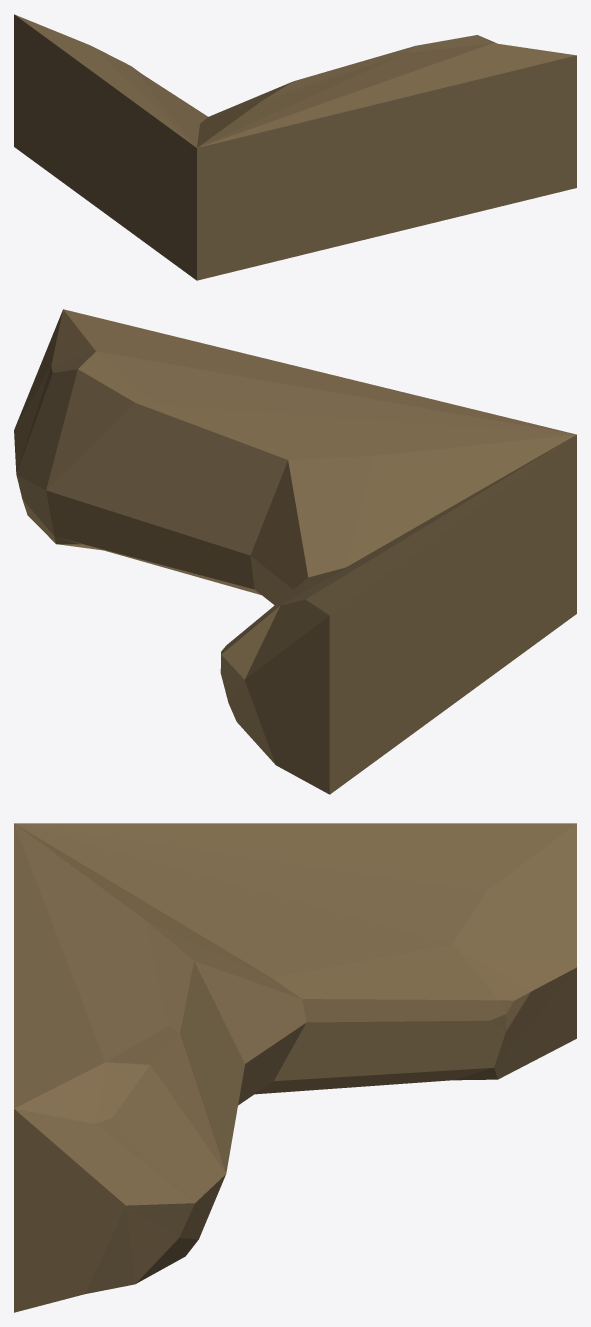
The model's file is LightRockEdgeSmallInternalCurve2.FBX.
3 renders of one model, top to bottom at view 1: azimuth 30°, elevation 25°; view 2: azimuth 150°, elevation 25°; view 3: azimuth 270°, elevation 25°, orthographic. The views are drawn at different scales.
Parts seen in each view (by area): view 1: LightNaturalRockEdgeSmallInternalCurve2; view 2: LightNaturalRockEdgeSmallInternalCurve2; view 3: LightNaturalRockEdgeSmallInternalCurve2.
Boxes of the visible parts, x1,y1,x2,y2 form: LightNaturalRockEdgeSmallInternalCurve2: [14, 14, 576, 280]; LightNaturalRockEdgeSmallInternalCurve2: [14, 309, 576, 794]; LightNaturalRockEdgeSmallInternalCurve2: [14, 823, 576, 1312].
Size of the model in its own units: 6 by 2.06 by 5.
